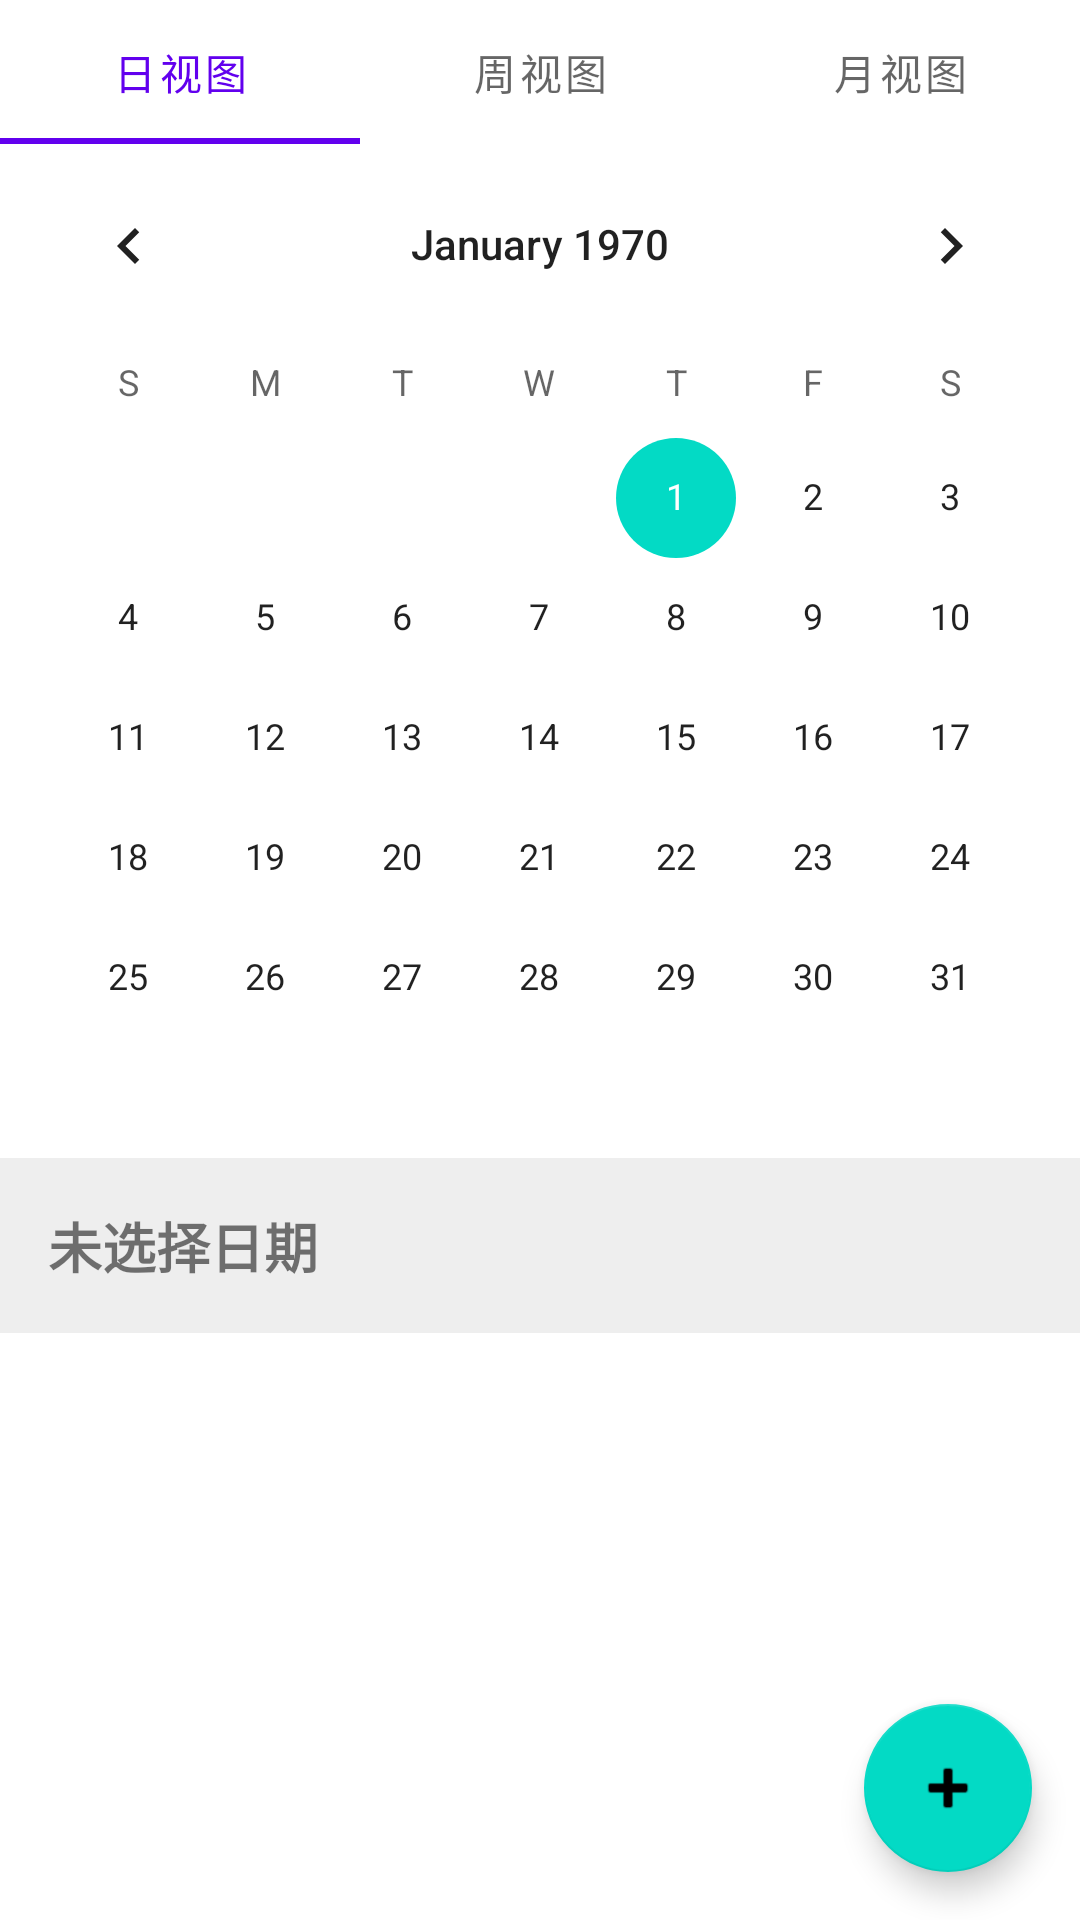

Icon click points for this 1080*1920 phone screenshot, format (x=x, y=y):
添加日程: (x=948, y=1788)
